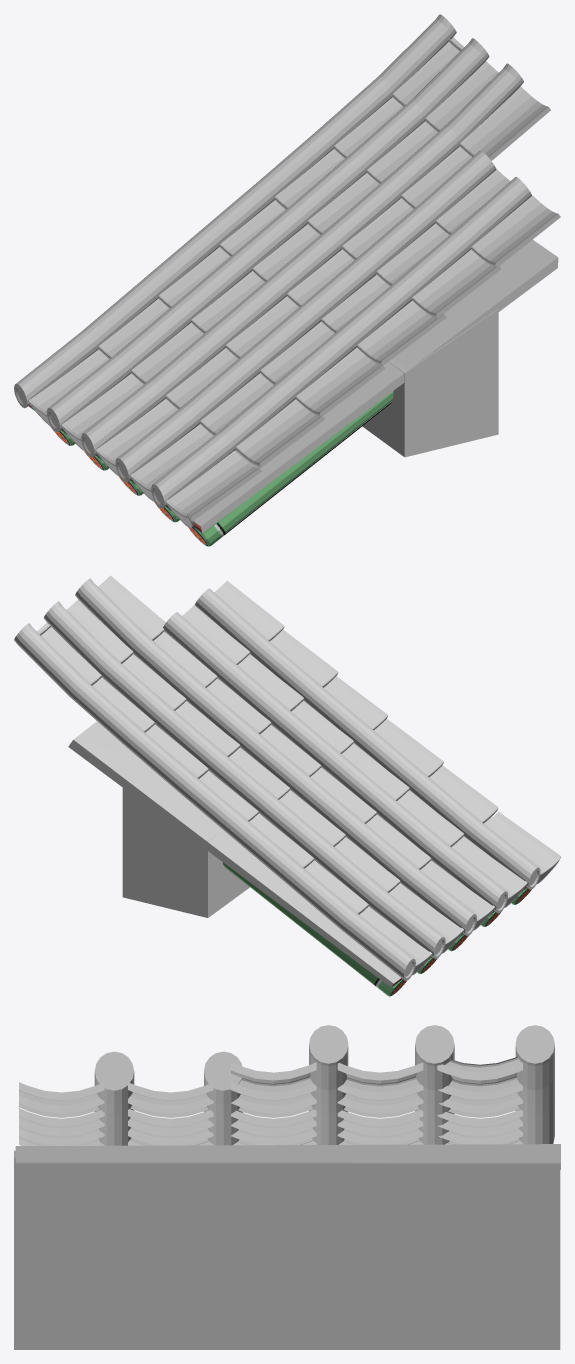
File: SM_Roof_28.fbx
3 renders of one model, top to bottom at view 1: azimuth 30°, elevation 25°; view 2: azimuth 150°, elevation 25°; view 3: azimuth 270°, elevation 25°, orthographic. The views are drawn at different scales.
Visible parts, largest first — view 1: SM_Roof_28_LOD0; view 2: SM_Roof_28_LOD0; view 3: SM_Roof_28_LOD0.
Part boxes in pixels (box(x1,y1,x2,y2)): SM_Roof_28_LOD0: box(14, 14, 560, 546); SM_Roof_28_LOD0: box(14, 575, 560, 996); SM_Roof_28_LOD0: box(14, 1025, 560, 1349).
Size of the model in its own units: 298 by 211 by 212.
